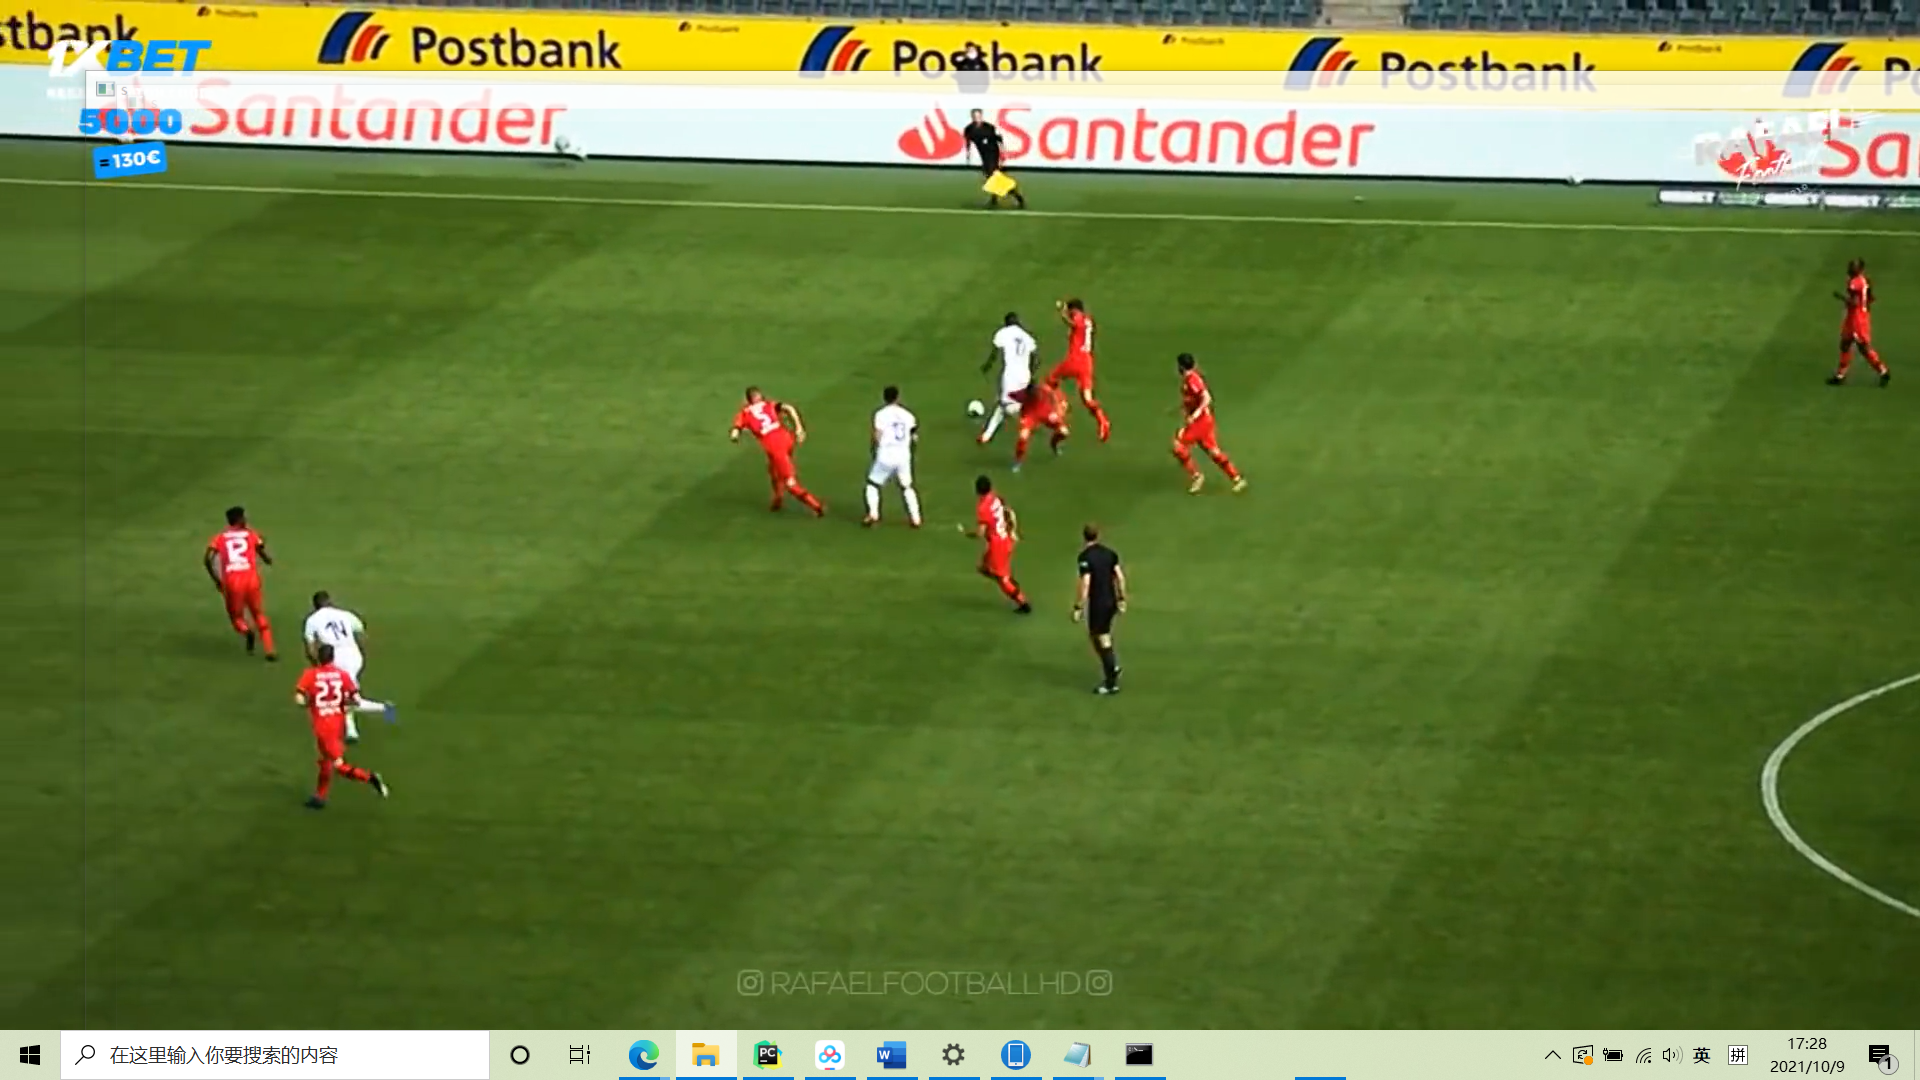ft: (967, 397, 988, 419)
